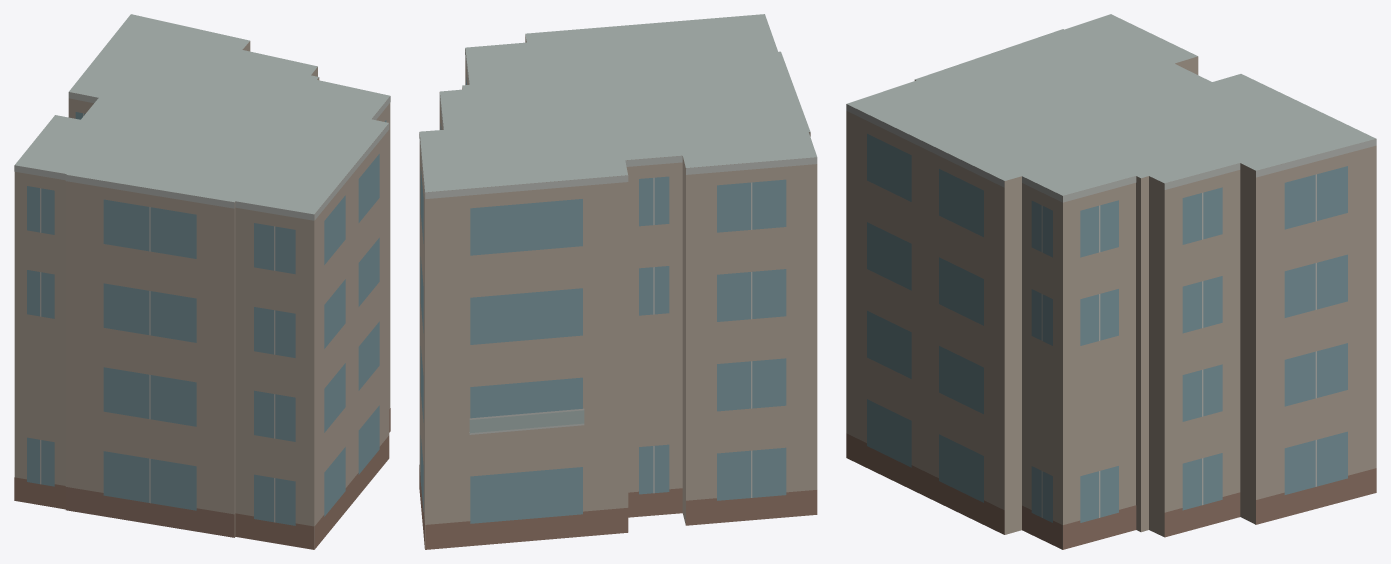
File: survey-upis-32927603.glb
The picture shows the model from 3 angles, left to right: view 1: azimuth 30°, elevation 25°; view 2: azimuth 150°, elevation 25°; view 3: azimuth 270°, elevation 25°; orthographic projection. The views are drawn at different scales.
Visible parts, largest first — view 1: survey-upis-32927603.tmp; view 2: survey-upis-32927603.tmp; view 3: survey-upis-32927603.tmp.
Part boxes in pixels (left/top/right/bottom): survey-upis-32927603.tmp: left=14, top=14, right=390, bottom=549; survey-upis-32927603.tmp: left=419, top=14, right=817, bottom=549; survey-upis-32927603.tmp: left=846, top=14, right=1376, bottom=549.
Size of the model in its own units: 14.06 by 12.75 by 17.31.
